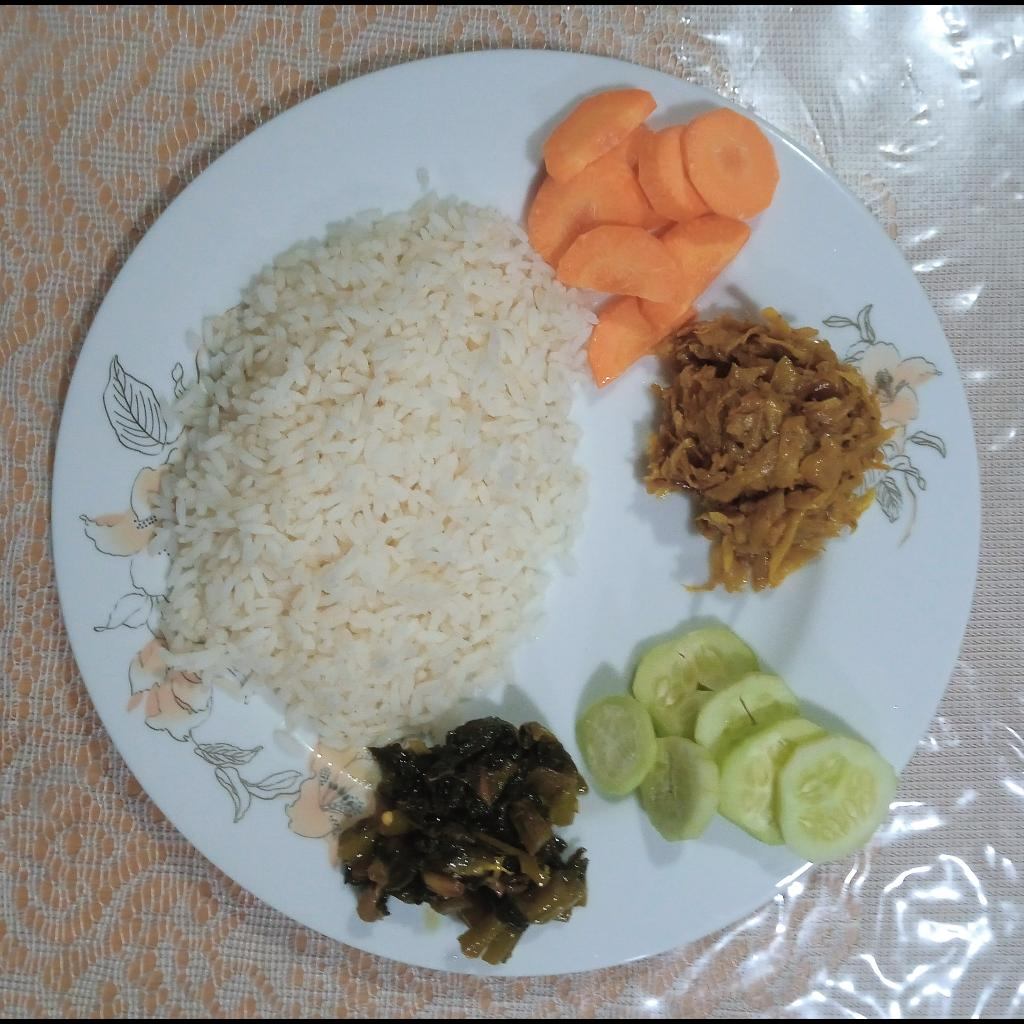cabbage: (642, 309, 895, 600)
carrot: (526, 87, 781, 387)
cucumber: (575, 624, 900, 866)
rice: (153, 197, 591, 747)
shak: (334, 719, 590, 968)
